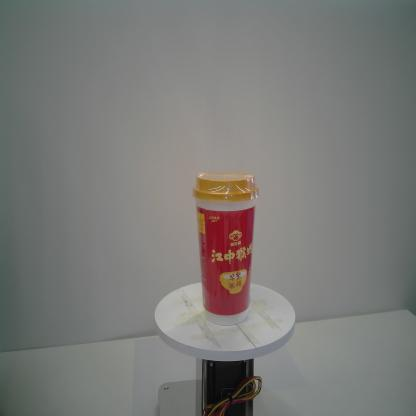Instant Drink: (192, 171, 260, 326)
